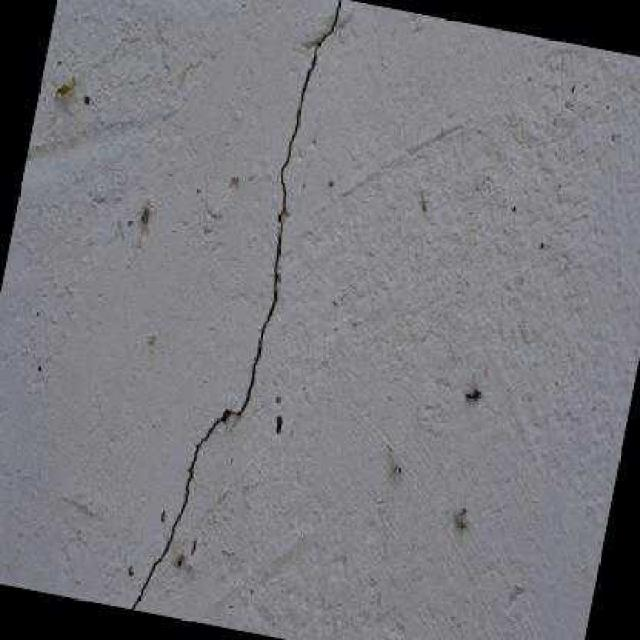D00: (129, 0, 341, 610)
